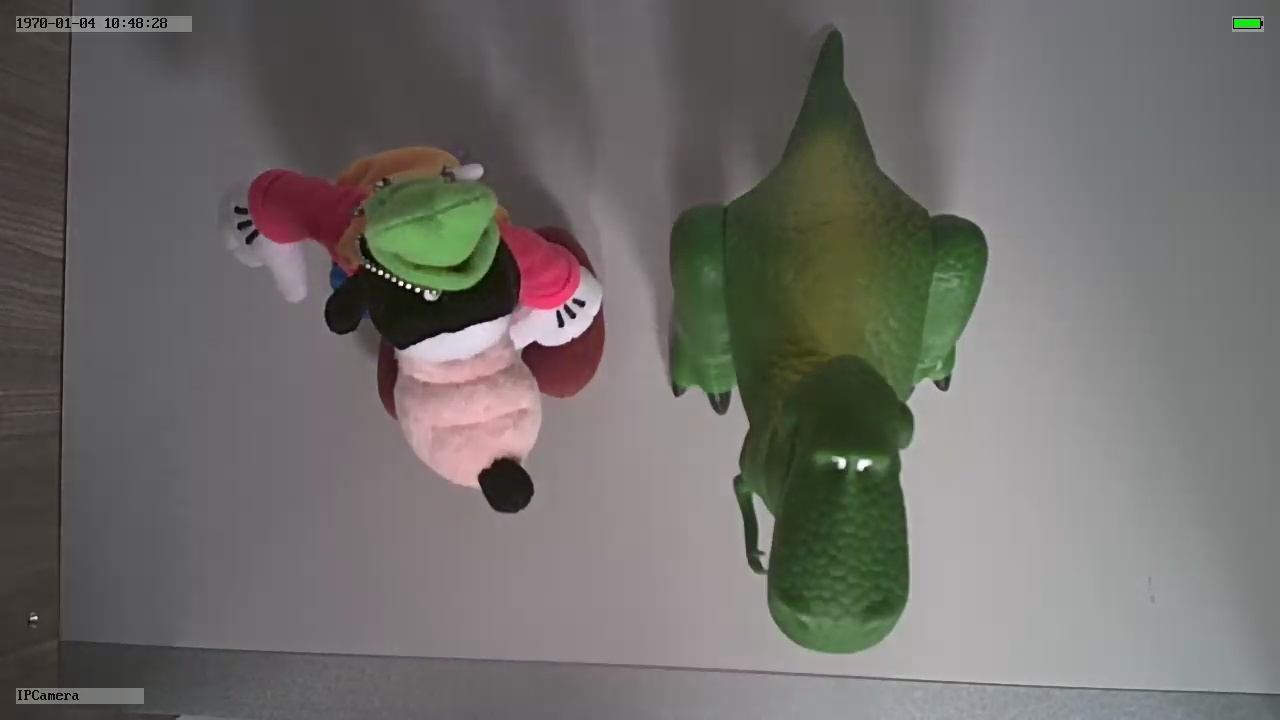goofy: (218, 142, 611, 524)
rex: (665, 114, 991, 655)
